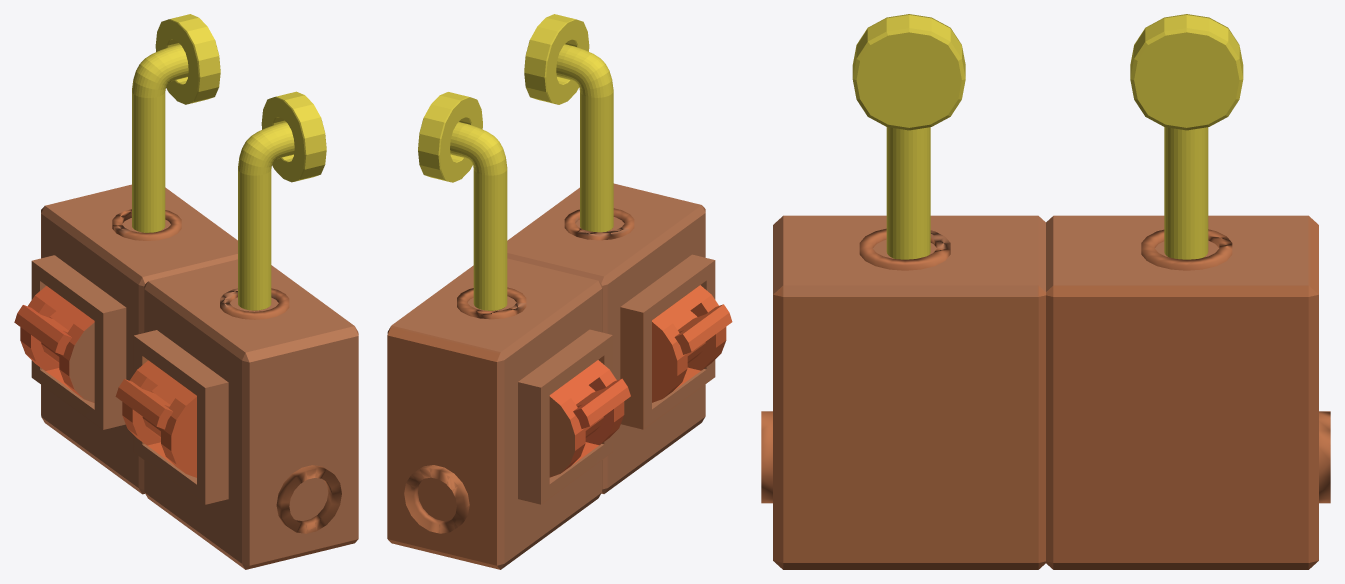
Rendered from wall double switch.fbx.
3 renders of one model, left to right at view 1: azimuth 30°, elevation 25°; view 2: azimuth 150°, elevation 25°; view 3: azimuth 270°, elevation 25°, orthographic. The views are drawn at different scales.
Parts seen in each view (by area): view 1: Cube.013; view 2: Cube.013; view 3: Cube.013.
Part boxes in pixels (x1,y1,x2,y2): Cube.013: [14, 14, 358, 569]; Cube.013: [387, 14, 732, 569]; Cube.013: [761, 14, 1330, 569].
Size of the model in its own units: 67.37 by 154 by 147.
